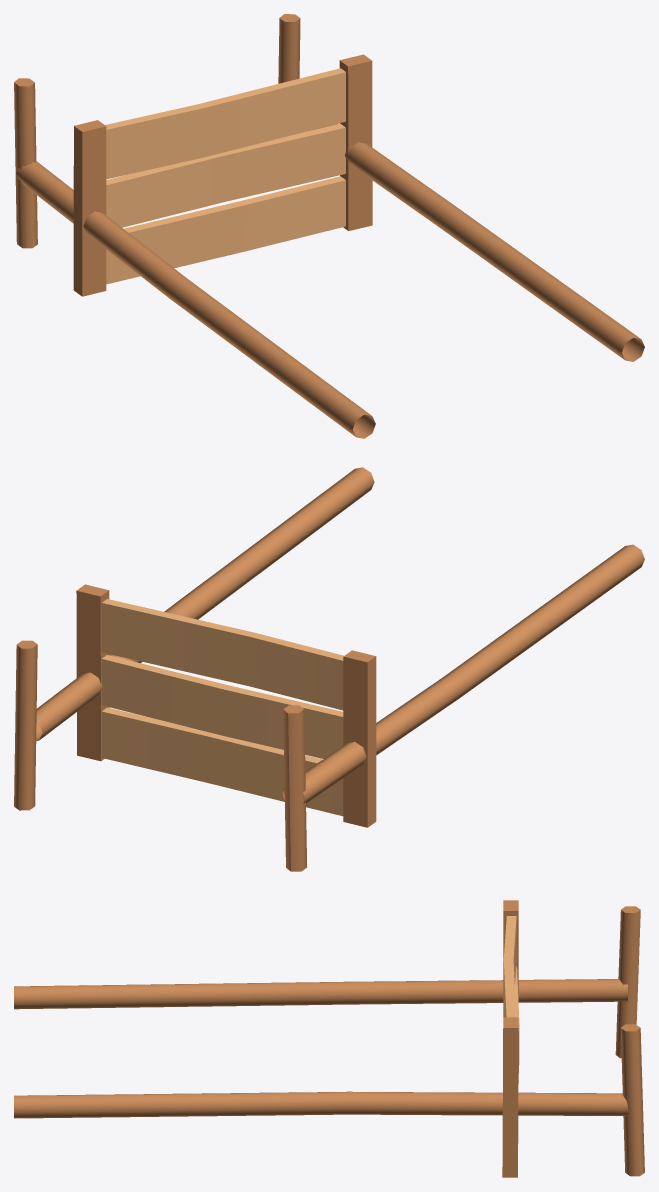
The model's file is Bridge_modular.fbx.
3 views of the same model, one above another, from view 1: azimuth 30°, elevation 25°; view 2: azimuth 150°, elevation 25°; view 3: azimuth 270°, elevation 25° (orthographic). The views are drawn at different scales.
Parts seen in each view (by area): view 1: Circle.008; view 2: Circle.008; view 3: Circle.008.
Boxes of the visible parts, left/top/right/bottom form: Circle.008: left=14, top=14, right=644, bottom=438; Circle.008: left=14, top=467, right=644, bottom=871; Circle.008: left=14, top=900, right=644, bottom=1177.
Bounding box in the file's own units: 188 × 101 × 384.
